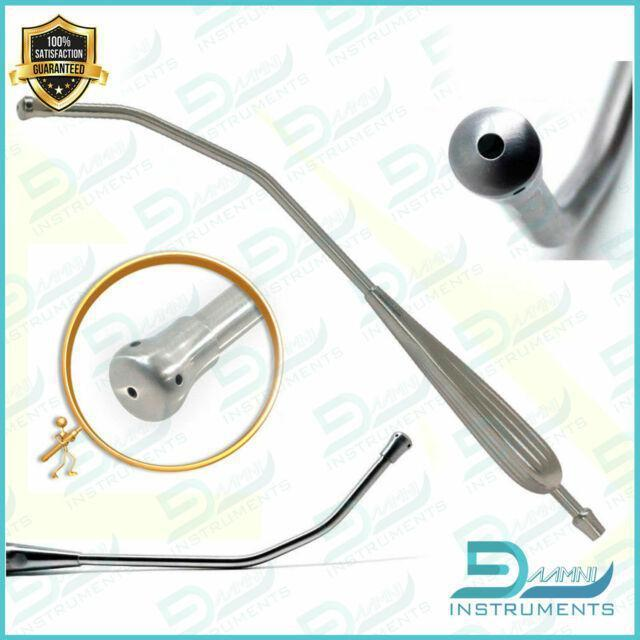Yankauer: (14, 94, 607, 543), (8, 427, 415, 580), (445, 57, 631, 257), (106, 280, 266, 426)
